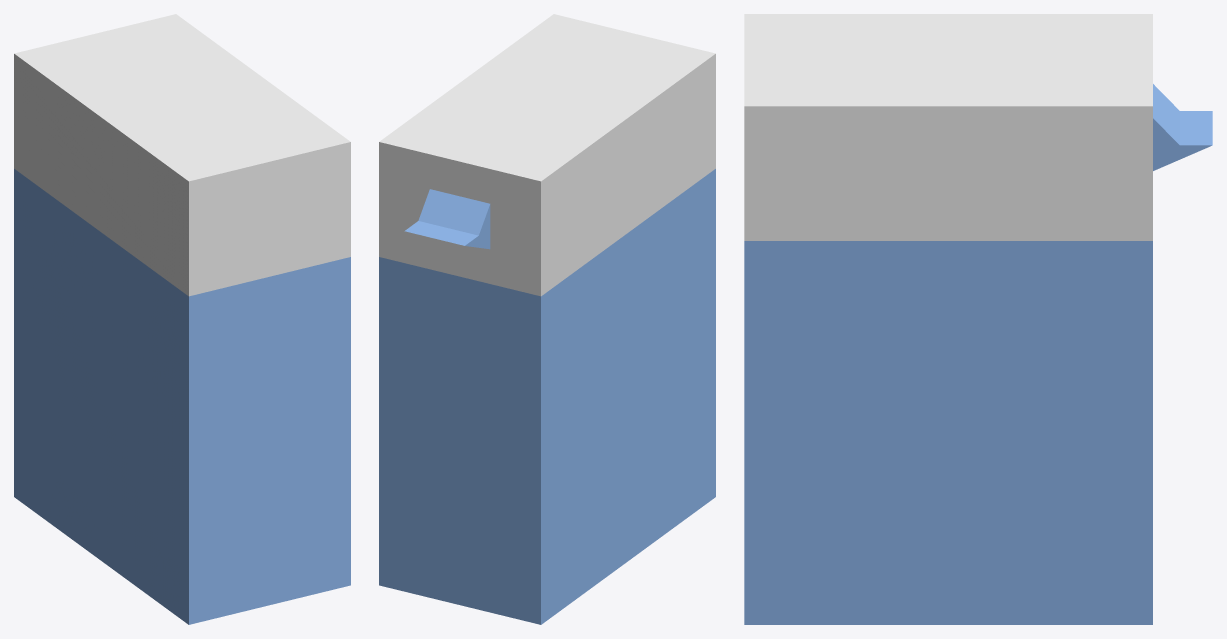
3 renders of one model, left to right at view 1: azimuth 30°, elevation 25°; view 2: azimuth 150°, elevation 25°; view 3: azimuth 270°, elevation 25°, orthographic. The views are drawn at different scales.
Visible parts, largest first — view 1: Cube.001; view 2: Cube.001; view 3: Cube.001.
Part boxes in pixels (bbox=[...]): Cube.001: bbox=[14, 14, 350, 624]; Cube.001: bbox=[379, 14, 715, 624]; Cube.001: bbox=[744, 14, 1212, 624].
Size of the model in its own units: 0.0876 by 0.229 by 0.1875.
Materials: 1 (1 with a texture image).
